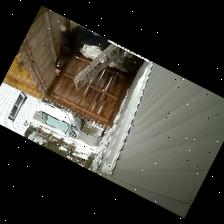person: (56, 23, 110, 74)
